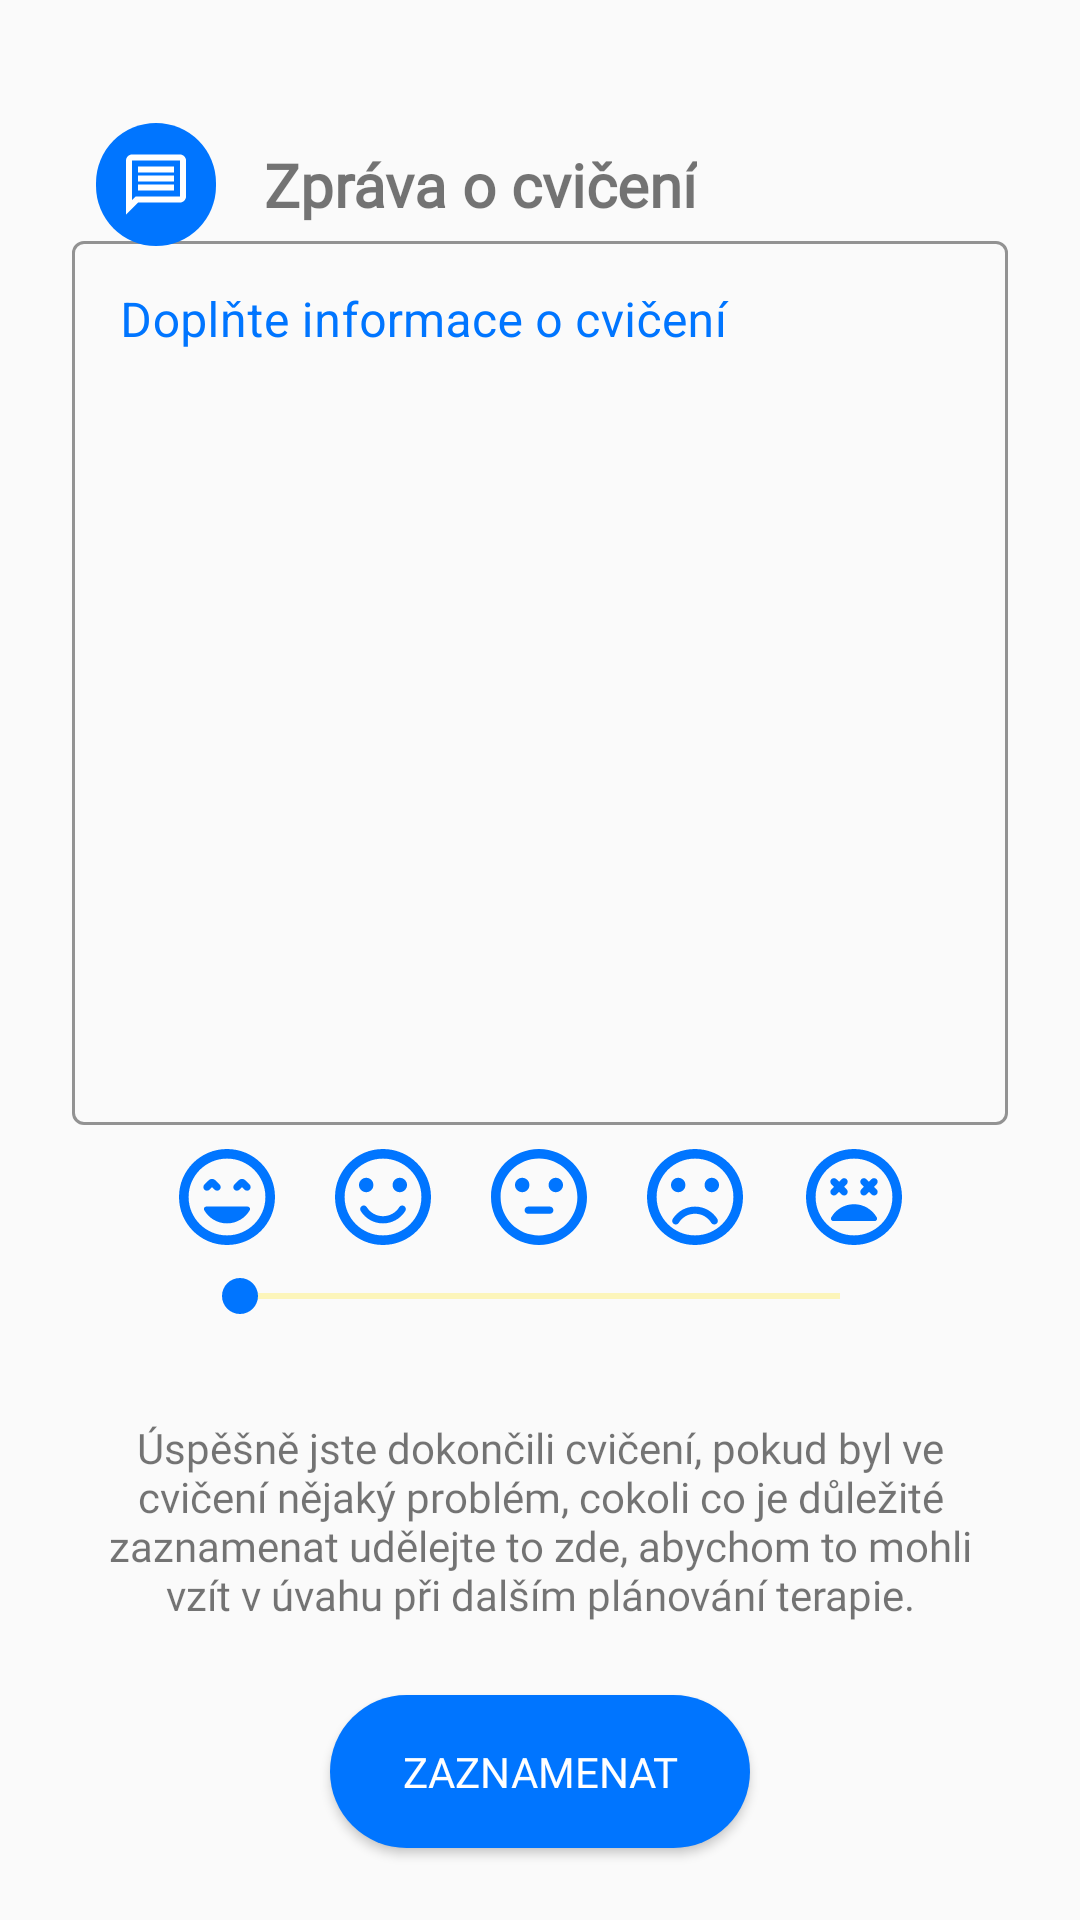

Where to tap for icons on this 1080x1920 app screen, as [x,y]:
message: [156,184]
